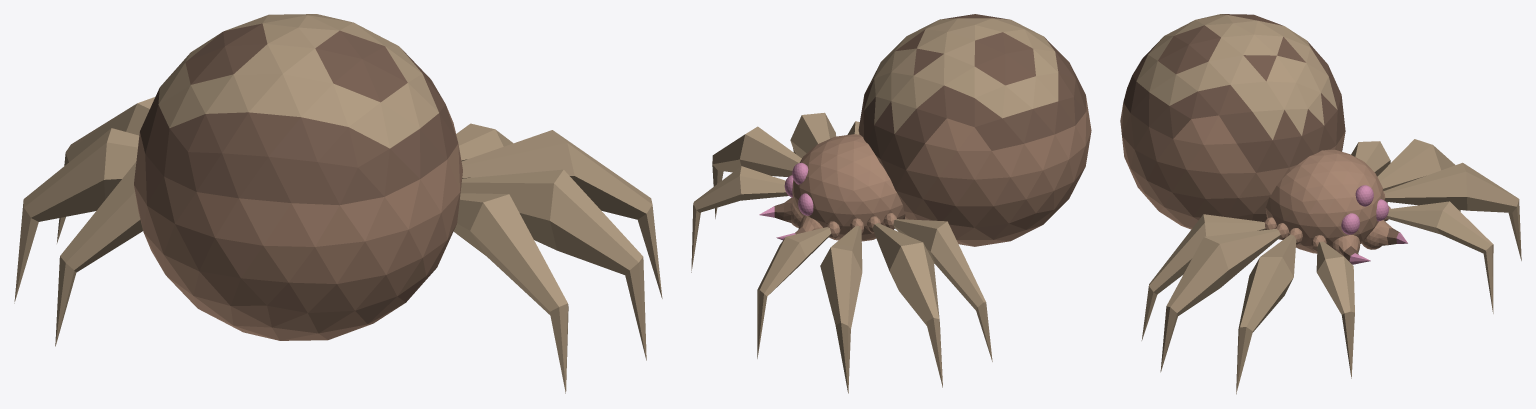
Rendered from spider.glb.
The picture shows the model from 3 angles, left to right: view 1: azimuth 30°, elevation 25°; view 2: azimuth 150°, elevation 25°; view 3: azimuth 270°, elevation 25°; orthographic projection. The views are drawn at different scales.
Parts seen in each view (by area): view 1: Icosphere_0; view 2: Icosphere_0; view 3: Icosphere_0.
Part boxes in pixels (box(x1,y1,x2,y2)): Icosphere_0: box(14, 14, 662, 393); Icosphere_0: box(691, 14, 1091, 393); Icosphere_0: box(1120, 14, 1521, 394).
Bounding box in the file's own units: 2.91 × 2.01 × 2.9.
